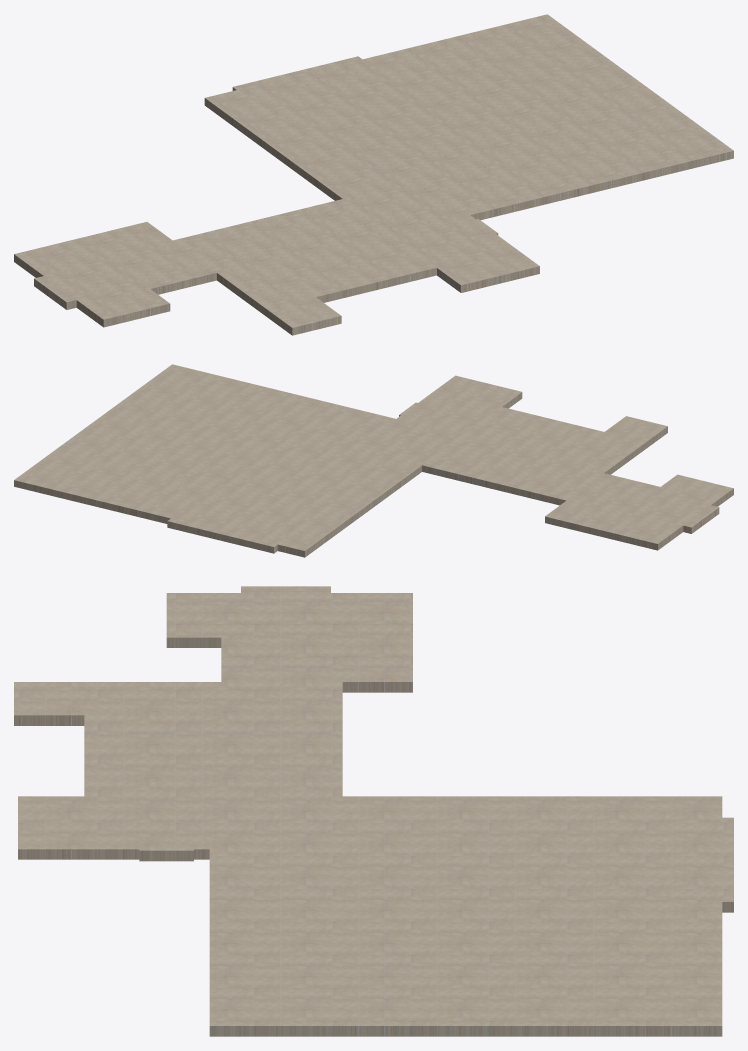
The model's file is 1860_kitchen_Floor_Nation.gltf.
3 renders of one model, top to bottom at view 1: azimuth 30°, elevation 25°; view 2: azimuth 150°, elevation 25°; view 3: azimuth 270°, elevation 25°, orthographic. The views are drawn at different scales.
Visible parts, largest first — view 1: Line23781; view 2: Line23781; view 3: Line23781.
Part boxes in pixels (x1,y1,x2,y2): Line23781: (14, 14, 733, 335); Line23781: (14, 364, 733, 557); Line23781: (14, 586, 733, 1036).
Size of the model in its own units: 26.6 by 0.3 by 18.4.
